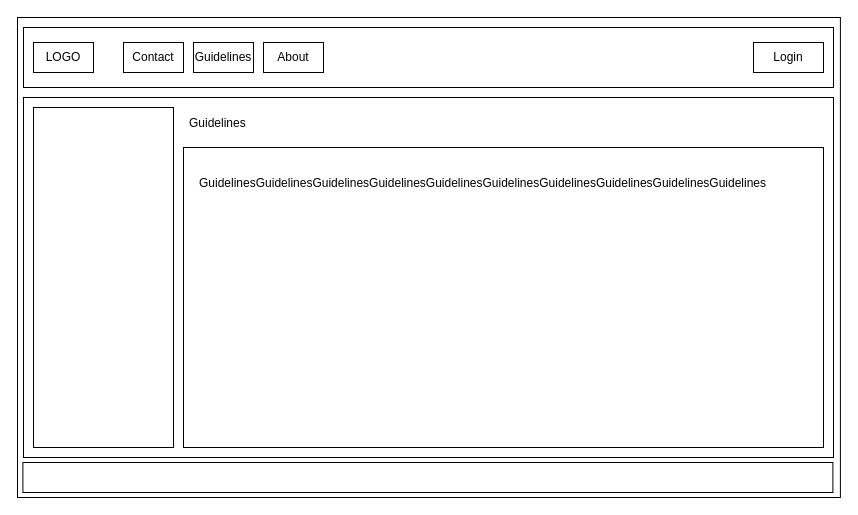
This 858x515 diagram has some shape labels left out. Each missing label, with the centre of its shape:
Footer: point (427, 477)
Reserved: point (103, 277)
